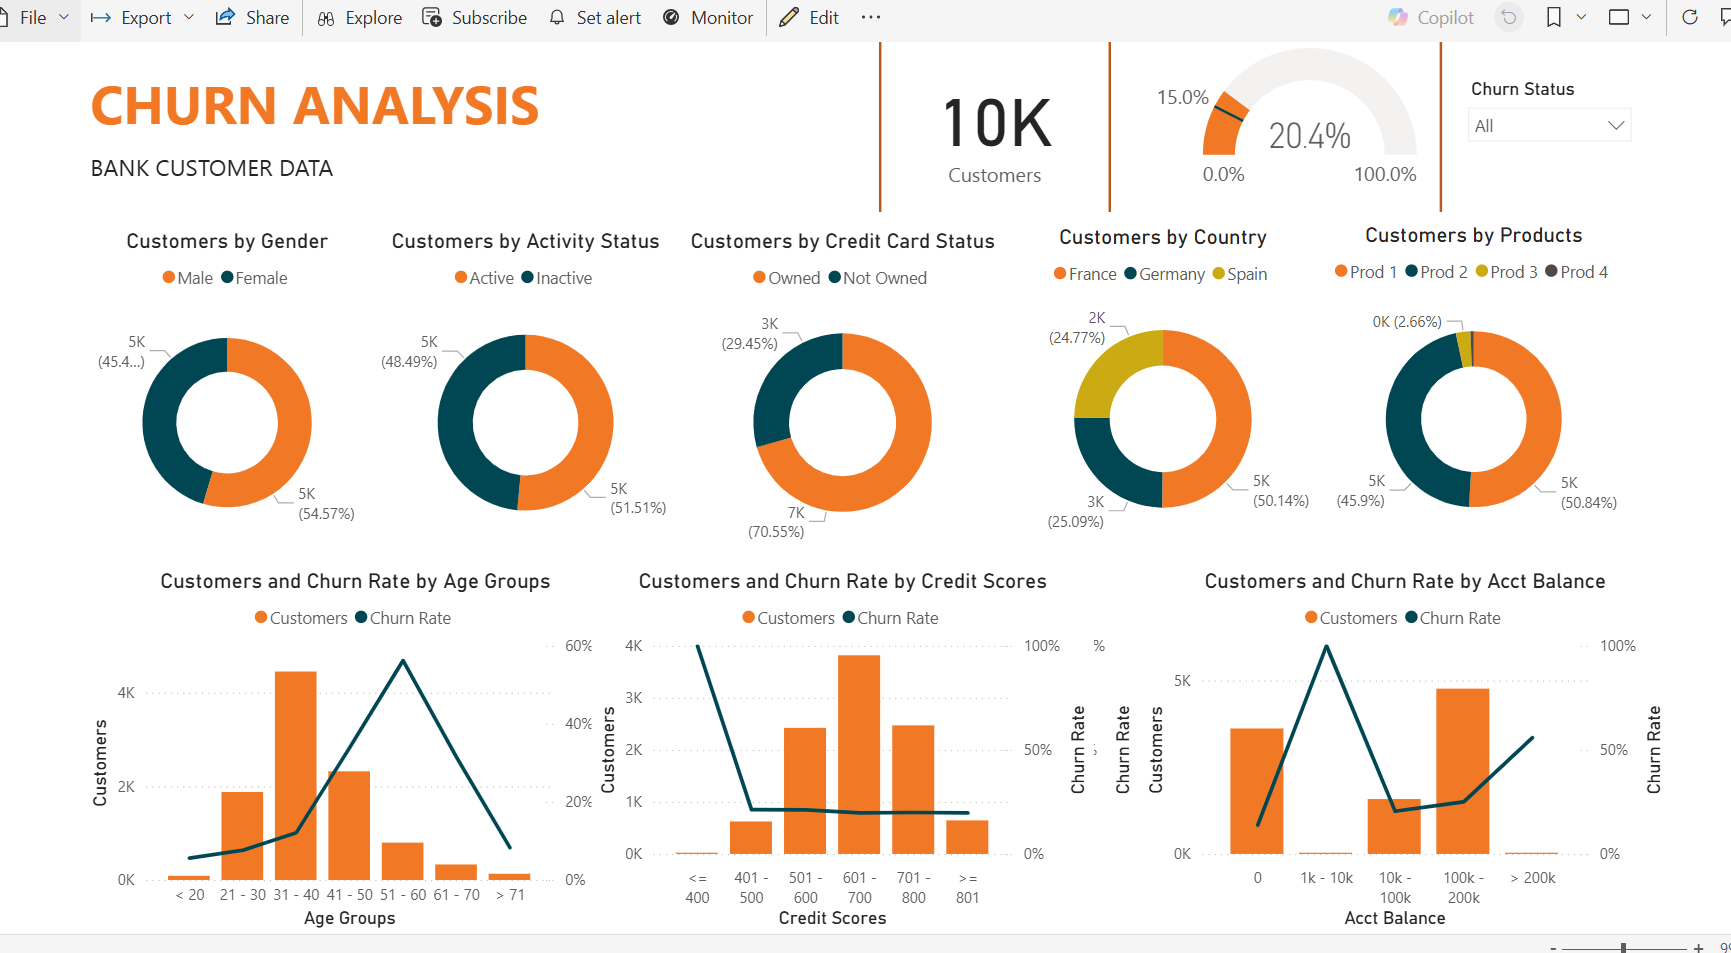

What the dashboard file says about the page in this screenshot:
{"tool":"powerbi","page":{"name":"Page 1","canvas":[1280,720],"ordinal":0},"visuals":[{"type":"shape","box":[-0.1,0,1280.2,137.2],"z":0},{"type":"card","fields":{"Values":["Customer Data.Customers"]},"box":[595.4,0,280.2,137.2],"z":1000},{"type":"donutChart","fields":{"Category":["Customer Data.Gender"],"Y":["Customer Data.Customers"]},"box":[0,150,231.4,265.1],"z":2000},{"type":"donutChart","fields":{"Y":["Customer Data.Customers"],"Category":["Customer Data.Activity Status"]},"box":[231.4,150,251.2,265.1],"z":3000},{"type":"donutChart","fields":{"Y":["Customer Data.Customers"],"Category":["Customer Data.Credit Card Status"]},"box":[482.6,150,260.5,265.1],"z":4000},{"type":"donutChart","fields":{"Y":["Customer Data.Customers"],"Category":["Customer Data.Country"]},"box":[743,147.7,257,265.1],"z":5000},{"type":"donutChart","fields":{"Y":["Customer Data.Customers"],"Category":["Customer Data.Products"]},"box":[1000,145.3,244.2,269.8],"z":6000},{"type":"lineClusteredColumnComboChart","fields":{"Category":["Age Groups.Age Groups"],"Y":["Customer Data.Customers"],"Y2":["Customer Data.Churn Rate"]},"box":[0,424.4,438.4,295.3],"z":7000},{"type":"lineClusteredColumnComboChart","fields":{"Y":["Customer Data.Customers"],"Y2":["Customer Data.Churn Rate"],"Category":["Credit Score Groups.Credit Scores"]},"box":[438.4,424.4,414,295.3],"z":8000},{"type":"lineClusteredColumnComboChart","fields":{"Y":["Customer Data.Customers"],"Y2":["Customer Data.Churn Rate"],"Category":["Acct Balance Groups.Acct Balance"]},"box":[852.3,424.4,427.9,295.3],"z":9000},{"type":"slicer","fields":{"Values":["Customer Data.Churn Status"]},"box":[1107,24.4,152.3,59.3],"z":10000},{"type":"gauge","fields":{"MinValue":["Min(Customer Data.Min Churn Rate)"],"MaxValue":["Max(Customer Data.Max Churn Rate)"],"TargetValue":["Max(Customer Data.Target Churn Rate)"],"Y":["Customer Data.Churn Rate"]},"box":[852.3,0,231.4,127.9],"z":11000},{"type":"textbox","box":[0,15.1,570.9,68.6],"z":11001},{"type":"textbox","box":[0,83.7,400,44.2],"z":11002},{"type":"shape","box":[612.8,0,60.5,137.2],"z":11003},{"type":"lineClusteredColumnComboChart","fields":{"Y":["Customer Data.Customers"],"Y2":["Customer Data.Churn Rate"],"Category":["Credit Score Groups.Credit Scores"]},"box":[409.3,424.4,405.8,295.3],"z":11004},{"type":"shape","box":[804.7,0,47.7,137.2],"z":11005},{"type":"shape","box":[1083.7,0,23.3,137.2],"z":11006}]}

Visuals, with their boxes on the page's 1280x720 design canvas (x1, y1, x2, y2). These are canvas units, not pixel positions in the 1731x953 screenshot, which may show the page scaled, cropped or inside an application window:
shape: x1=0 y1=0 x2=1280 y2=137
card - Customer Data.Customers: x1=595 y1=0 x2=876 y2=137
donutChart - Customer Data.Gender x Customer Data.Customers: x1=0 y1=150 x2=231 y2=415
donutChart - Customer Data.Customers x Customer Data.Activity Status: x1=231 y1=150 x2=483 y2=415
donutChart - Customer Data.Customers x Customer Data.Credit Card Status: x1=483 y1=150 x2=743 y2=415
donutChart - Customer Data.Customers x Customer Data.Country: x1=743 y1=148 x2=1000 y2=413
donutChart - Customer Data.Customers x Customer Data.Products: x1=1000 y1=145 x2=1244 y2=415
lineClusteredColumnComboChart - Age Groups.Age Groups x Customer Data.Customers: x1=0 y1=424 x2=438 y2=720
lineClusteredColumnComboChart - Customer Data.Customers x Customer Data.Churn Rate: x1=438 y1=424 x2=852 y2=720
lineClusteredColumnComboChart - Customer Data.Customers x Customer Data.Churn Rate: x1=852 y1=424 x2=1280 y2=720
slicer - Customer Data.Churn Status: x1=1107 y1=24 x2=1259 y2=84
gauge - Min(Customer Data.Min Churn Rate) x Max(Customer Data.Max Churn Rate): x1=852 y1=0 x2=1084 y2=128
textbox: x1=0 y1=15 x2=571 y2=84
textbox: x1=0 y1=84 x2=400 y2=128
shape: x1=613 y1=0 x2=673 y2=137
lineClusteredColumnComboChart - Customer Data.Customers x Customer Data.Churn Rate: x1=409 y1=424 x2=815 y2=720
shape: x1=805 y1=0 x2=852 y2=137
shape: x1=1084 y1=0 x2=1107 y2=137
